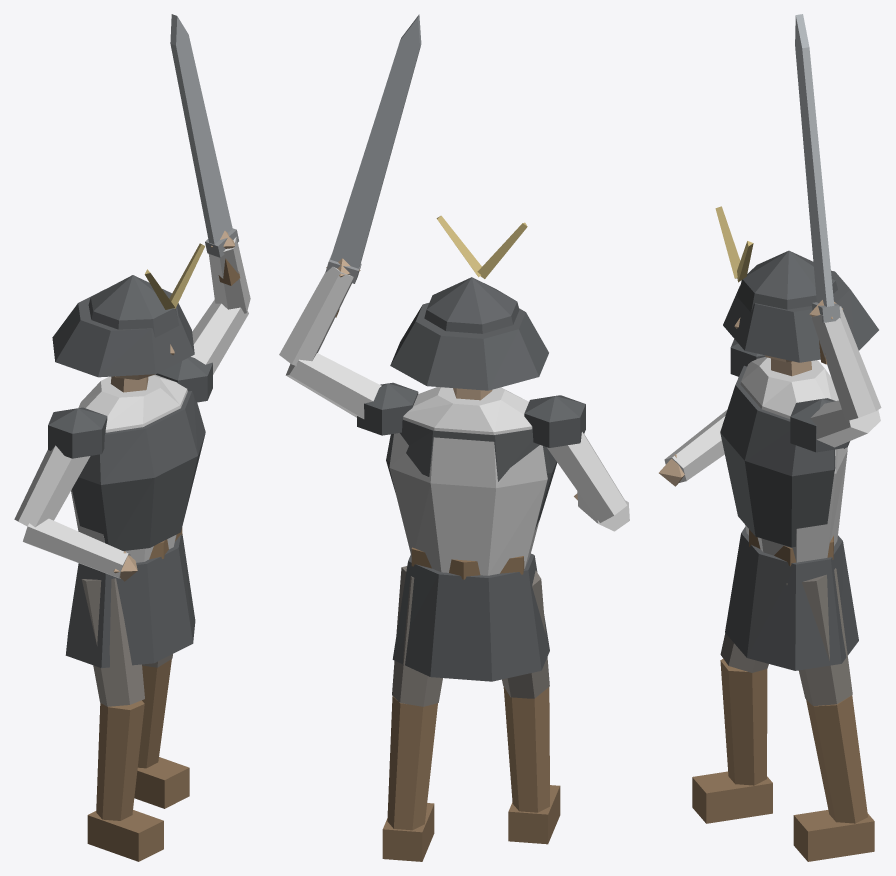
File: samurai.glb
The picture shows the model from 3 angles, left to right: view 1: azimuth 30°, elevation 25°; view 2: azimuth 150°, elevation 25°; view 3: azimuth 270°, elevation 25°; orthographic projection. The views are drawn at different scales.
Parts seen in each view (by area): view 1: LOD0; view 2: LOD0; view 3: LOD0.
Part boxes in pixels (bbox=[...]): LOD0: bbox=[14, 14, 250, 861]; LOD0: bbox=[279, 14, 629, 861]; LOD0: bbox=[659, 14, 881, 861].
Size of what is drawn, in the model's own units: 0.5368 by 1.43 by 0.3451.
